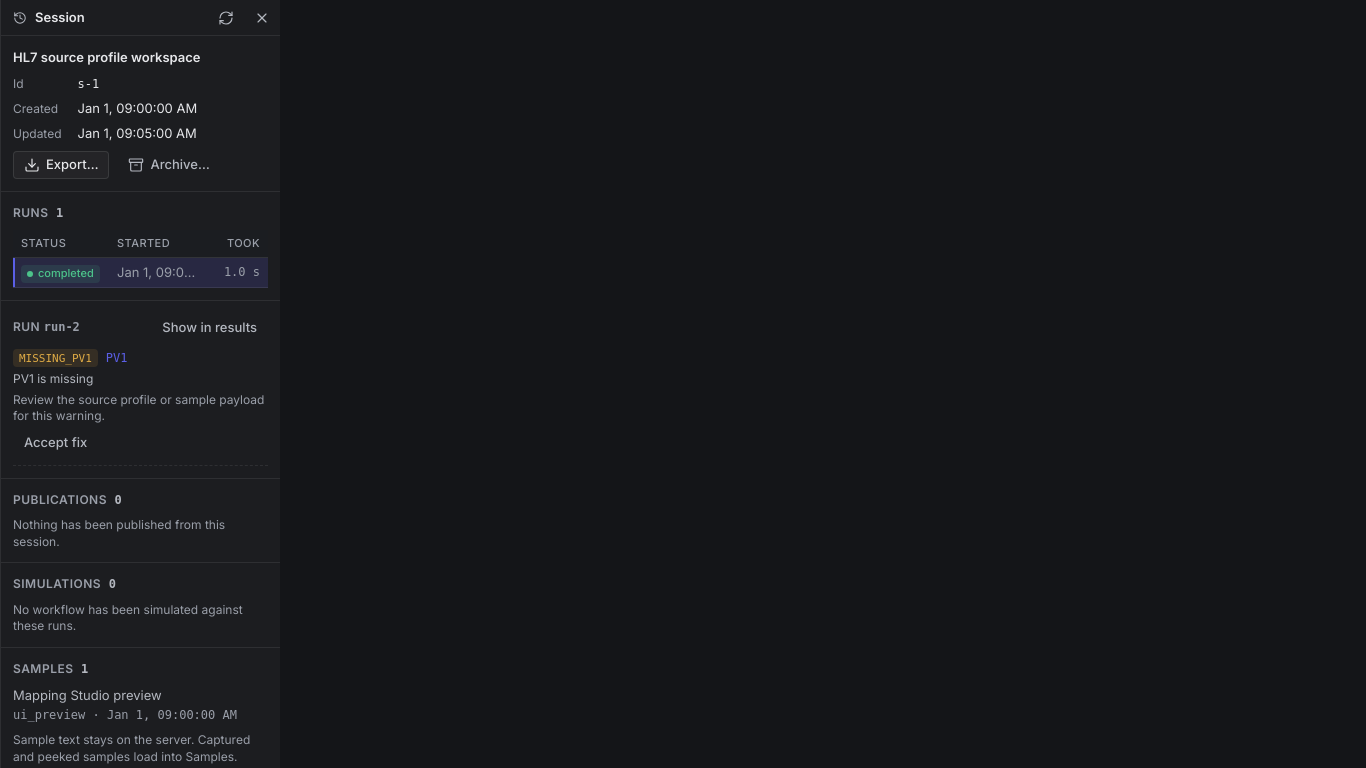
Scenario: SessionSidebar › does not offer raw payloads when the deployment did not report phiExport
Click the button with test id "hl7-session-export" at (61,165), box [13,151,110,179]
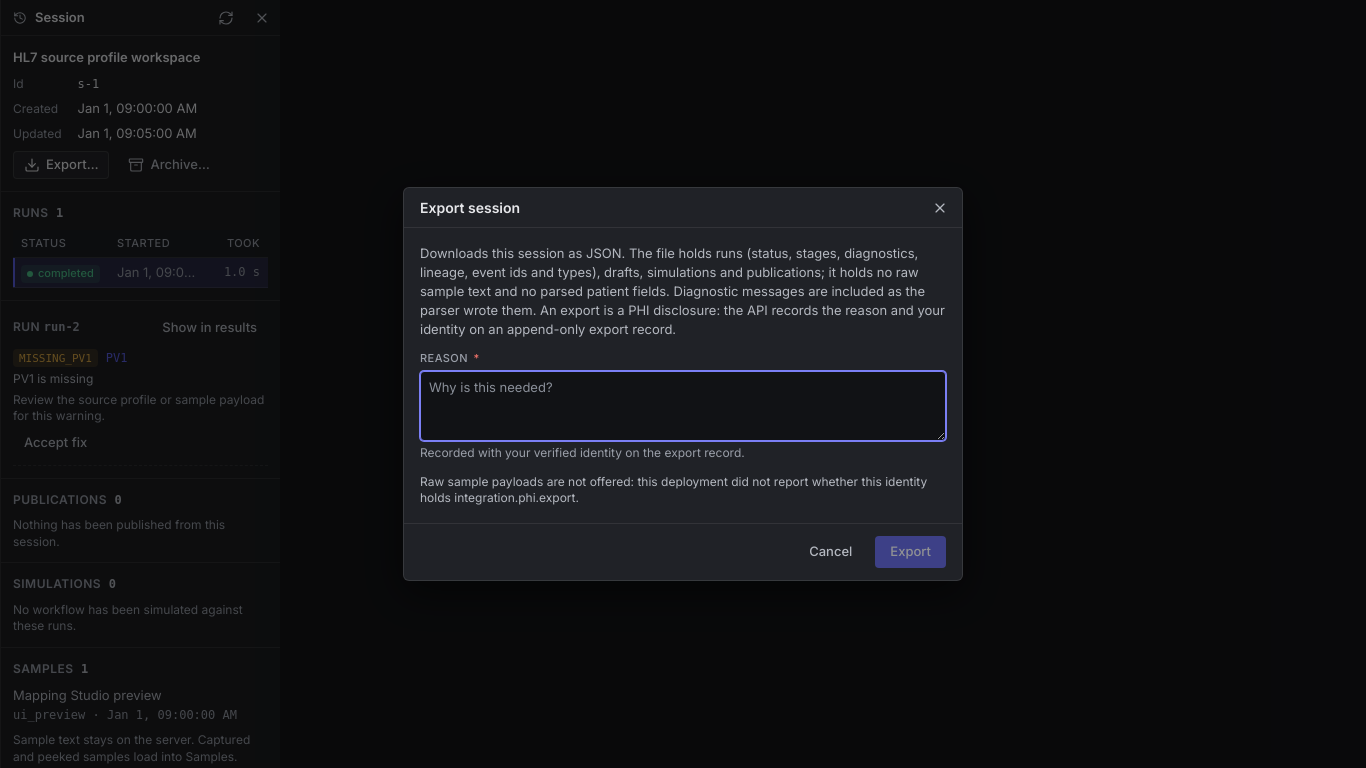
expect the text with test id "session-export-phi-missing" shows "did not report whether this identity holds integration.phi.export": met, box [420,474,927,505]
